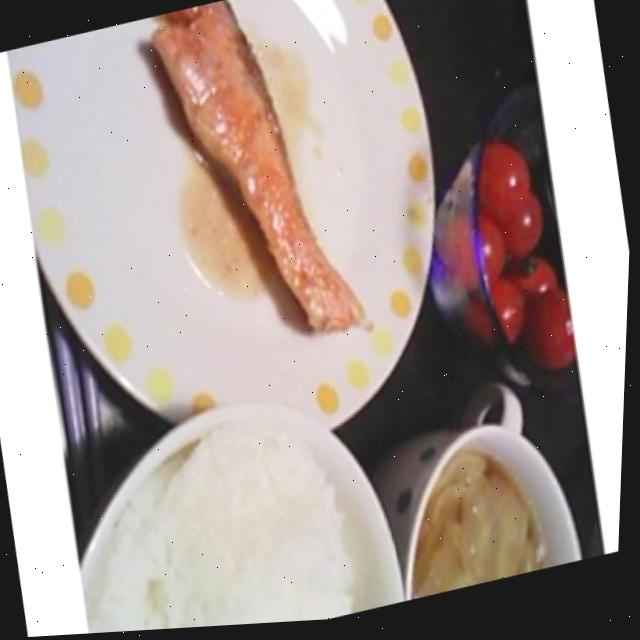熟制海鲜: (134, 0, 404, 397)
